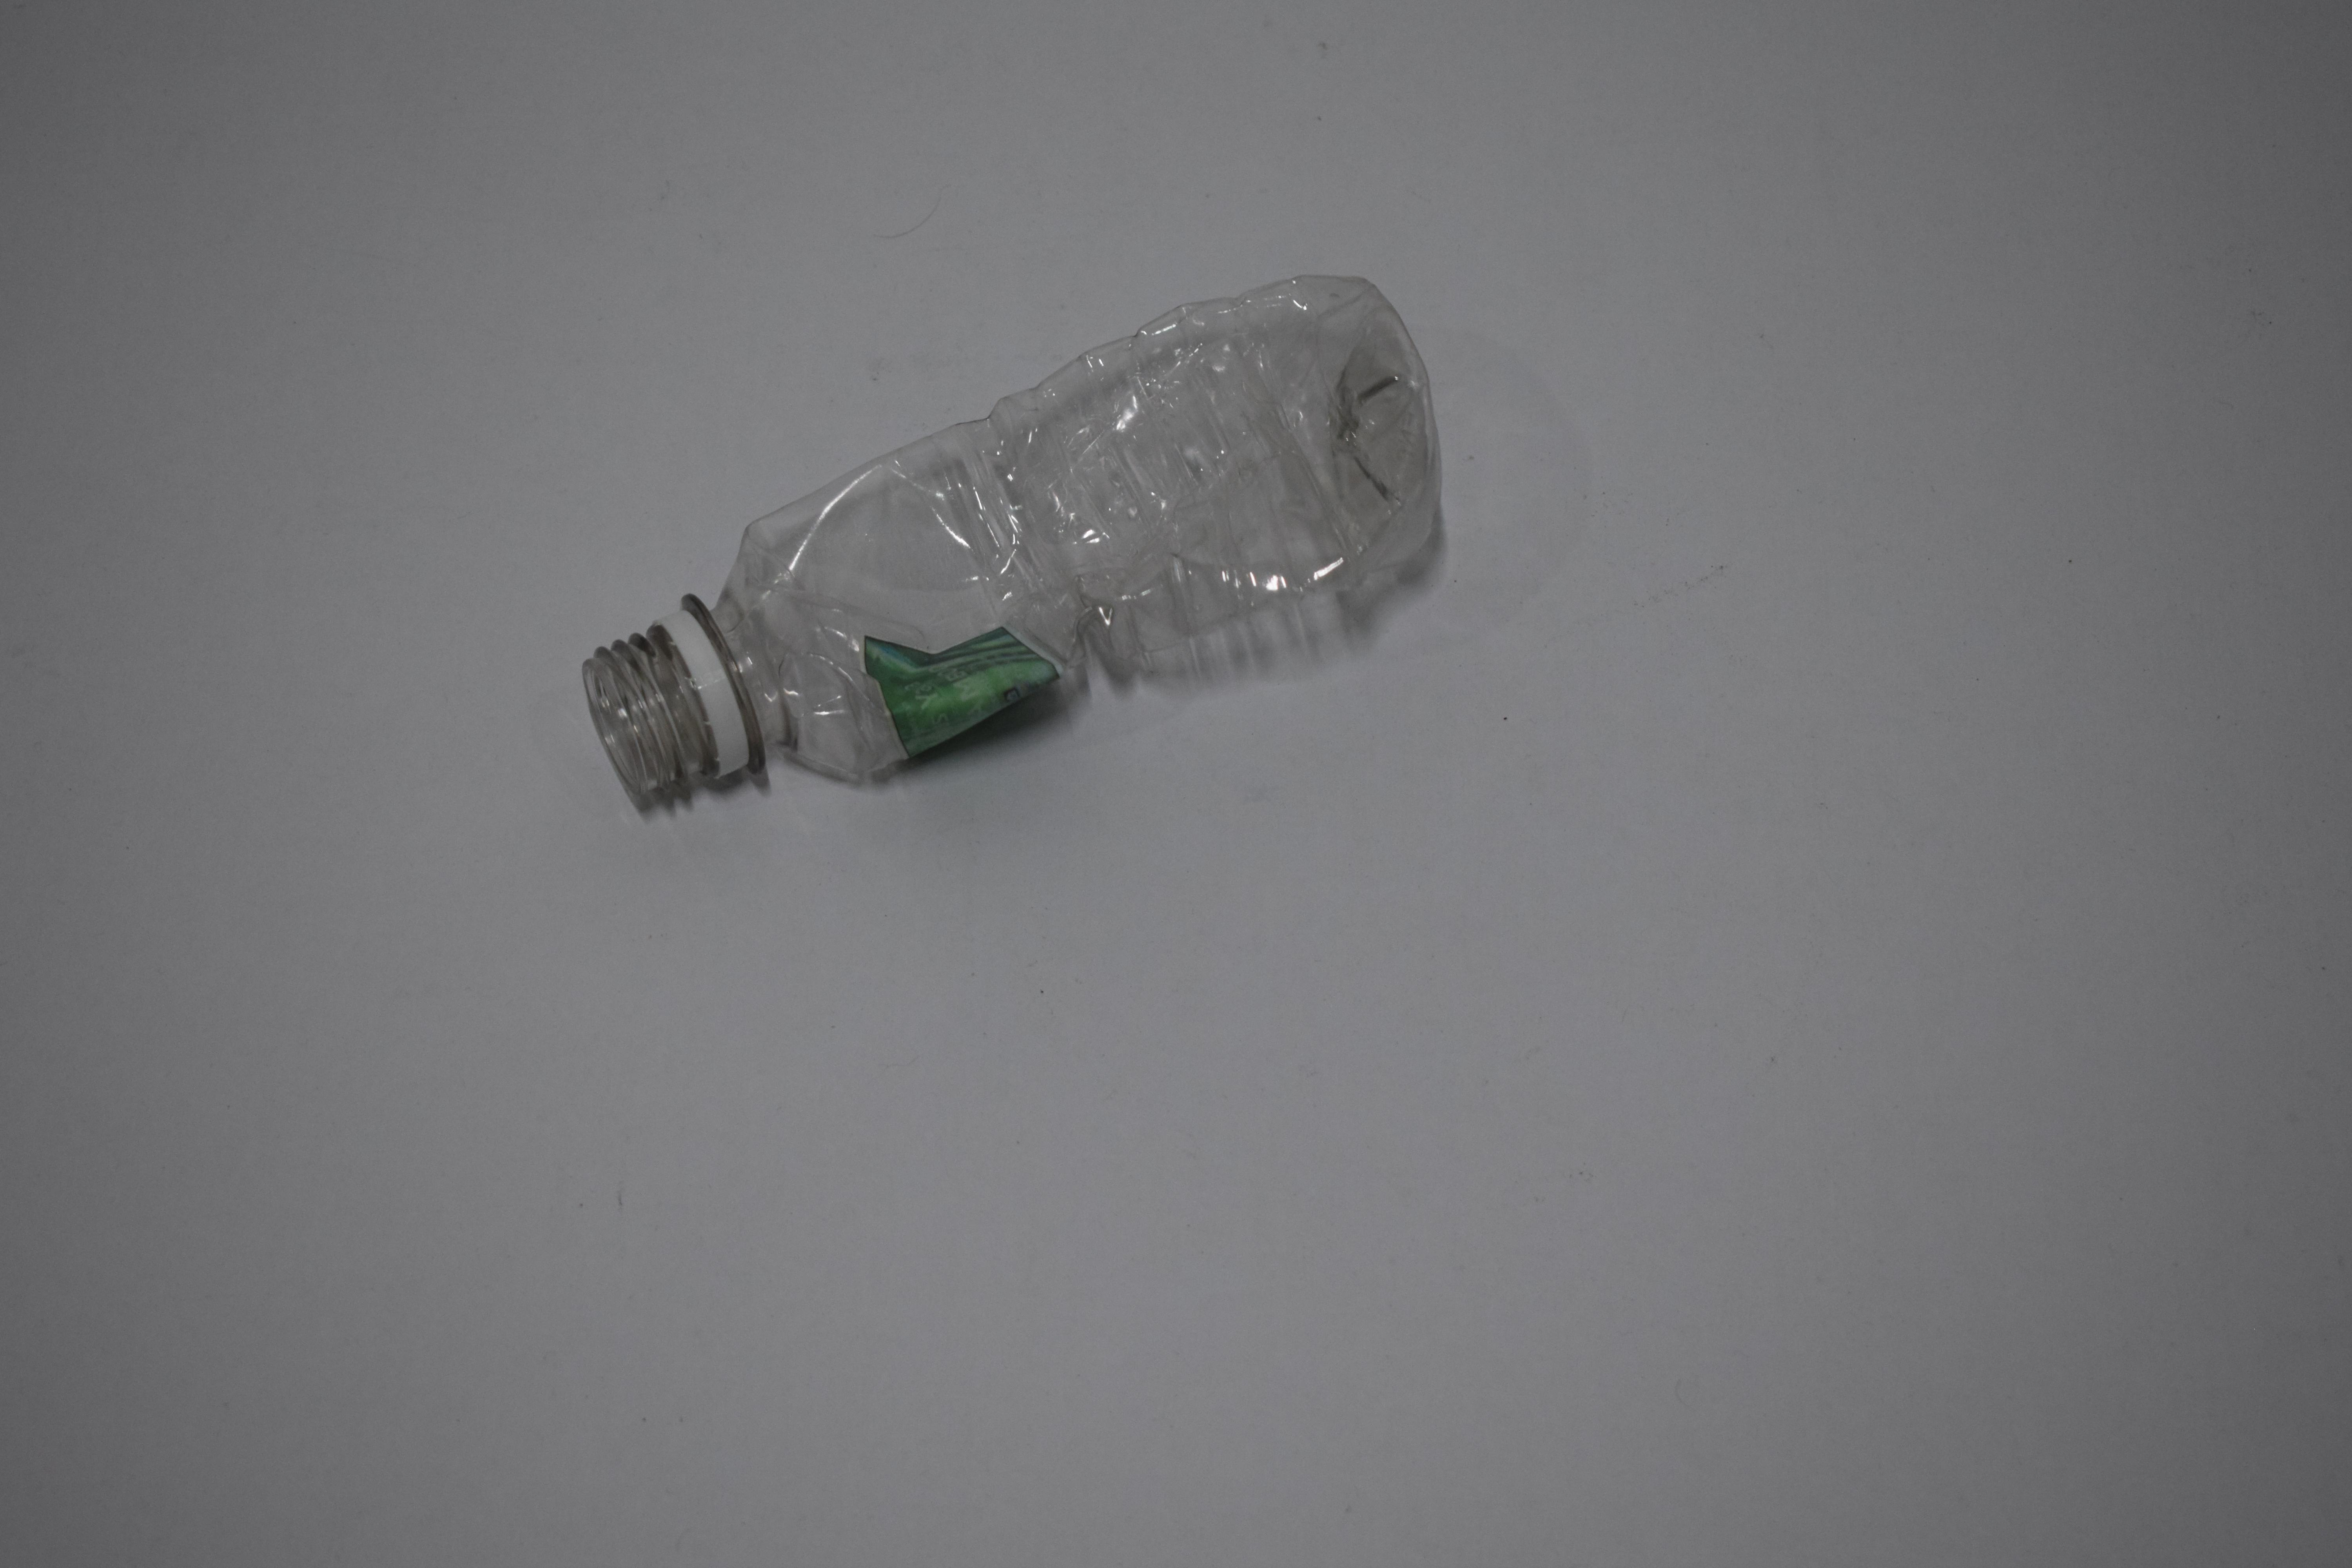bottle: (576, 301, 1451, 772)
